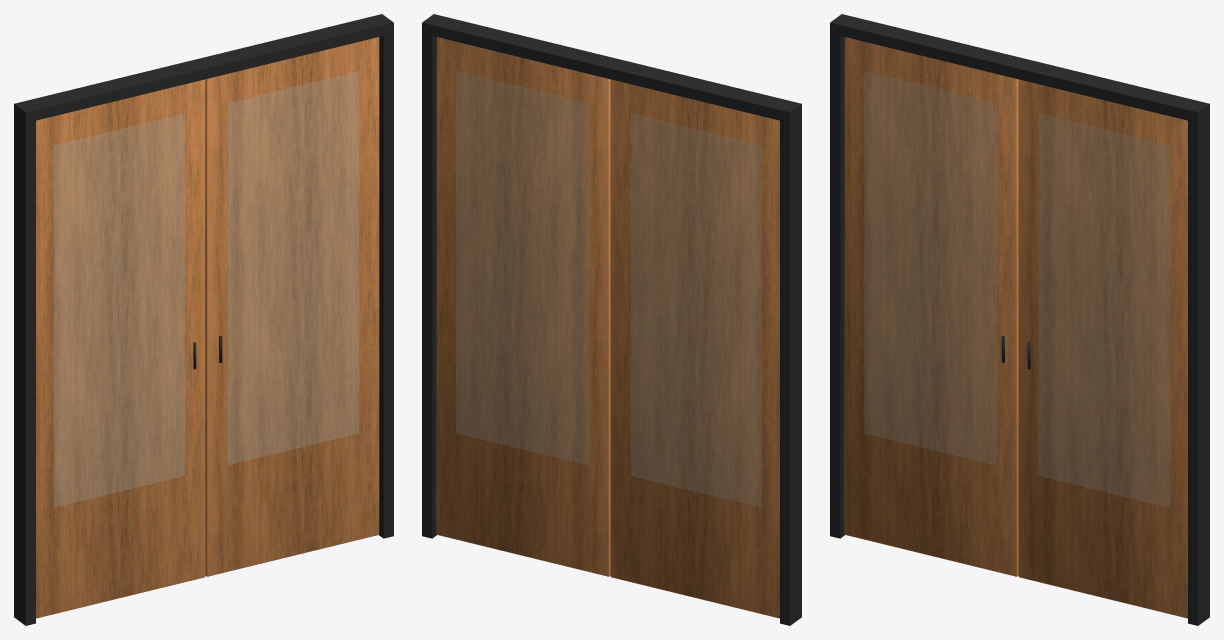
File: architecture.double-door.glb
3 views of the same model, side by side, from view 1: azimuth 30°, elevation 25°; view 2: azimuth 150°, elevation 25°; view 3: azimuth 330°, elevation 25° (orthographic).
Parts seen in each view (by area): view 1: architecture.double-door.001; view 2: architecture.double-door.001; view 3: architecture.double-door.001.
Boxes of the visible parts, x1=… form: architecture.double-door.001: x1=14, y1=14, x2=393, y2=625; architecture.double-door.001: x1=422, y1=14, x2=801, y2=625; architecture.double-door.001: x1=830, y1=14, x2=1209, y2=625.
Bounding box in the file's own units: 1.8 × 2.4 × 0.1.
Materials: 3 (1 with a texture image).
